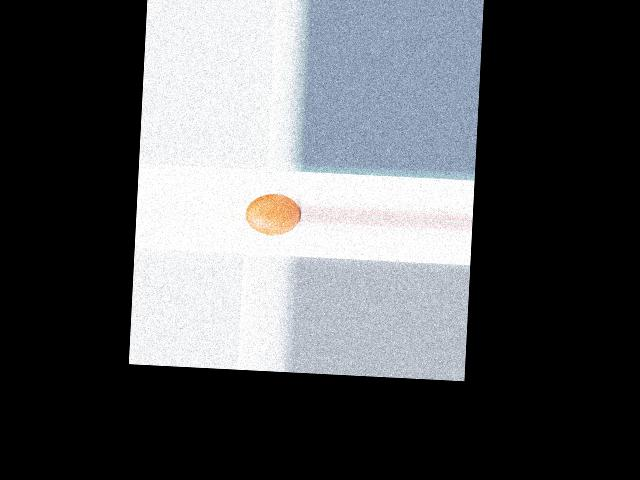egg: (245, 192, 301, 236)
